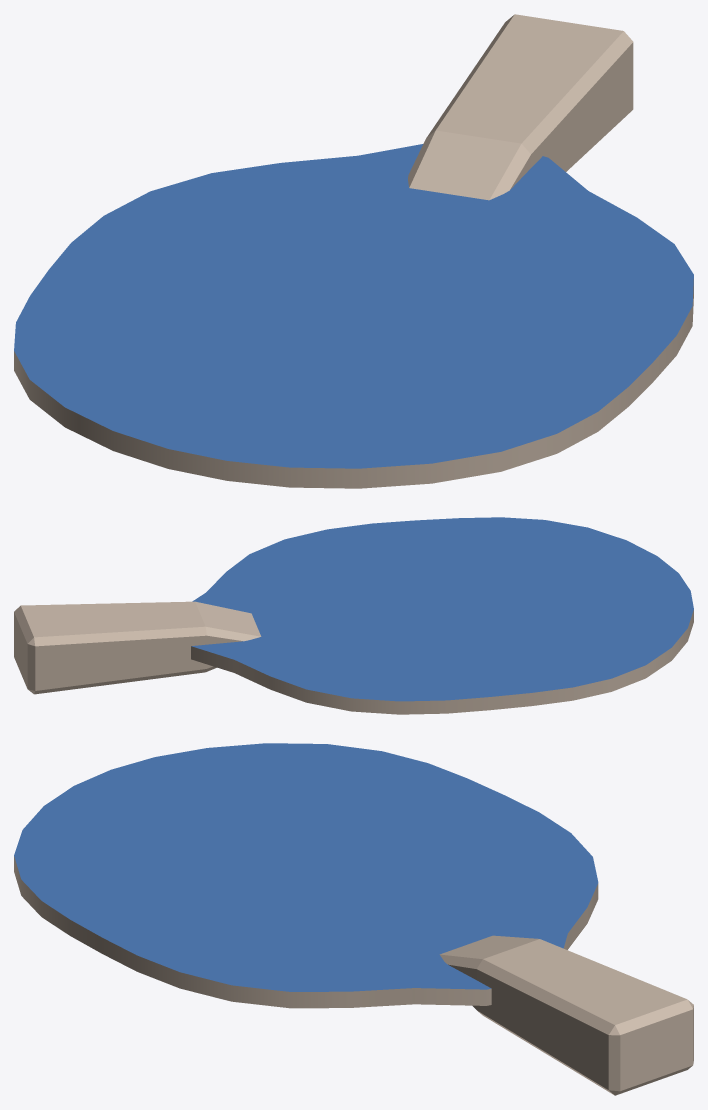
Rendered from racket_blue.glb.
3 views of the same model, one above another, from view 1: azimuth 30°, elevation 25°; view 2: azimuth 150°, elevation 25°; view 3: azimuth 270°, elevation 25° (orthographic). The views are drawn at different scales.
Visible parts, largest first — view 1: blue paddle; view 2: blue paddle; view 3: blue paddle.
Part boxes in pixels (x1=…): blue paddle: x1=14, y1=14, x2=693, y2=488; blue paddle: x1=14, y1=517, x2=693, y2=714; blue paddle: x1=14, y1=743, x2=693, y2=1095.
Size of the model in its own units: 0.2263 by 0.024 by 0.2094.
Materials: 1 (1 with a texture image).
